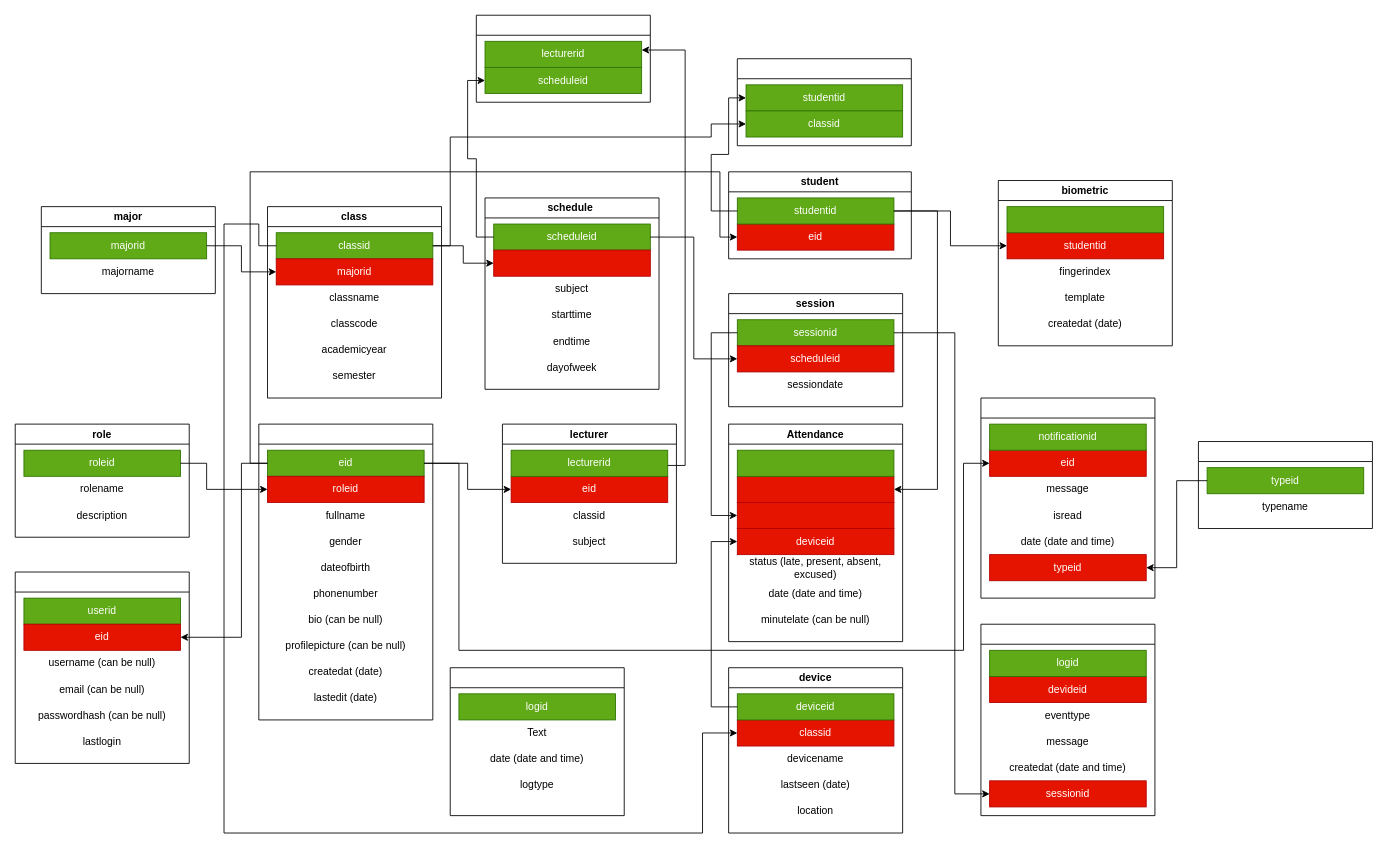
Image size: 1388x855. Some labels were removed from this diagram. Here are the shapes that lost their labels. From the top down, the box of each, then its label:
(475, 14, 650, 102): assignment
(736, 58, 911, 146): enrollment
(1006, 206, 1164, 233): biometricid
(493, 249, 650, 276): classid (not unique)
(736, 449, 894, 476): attendanceid
(736, 475, 894, 502): unique (studentid
(980, 397, 1155, 598): notificationlog
(1198, 441, 1372, 529): notificationtype
(736, 502, 894, 529): sessionid unique)
(258, 423, 433, 720): entity
(14, 571, 189, 763): useraccount
(980, 623, 1155, 816): devicelog
(449, 667, 624, 816): systemlog
